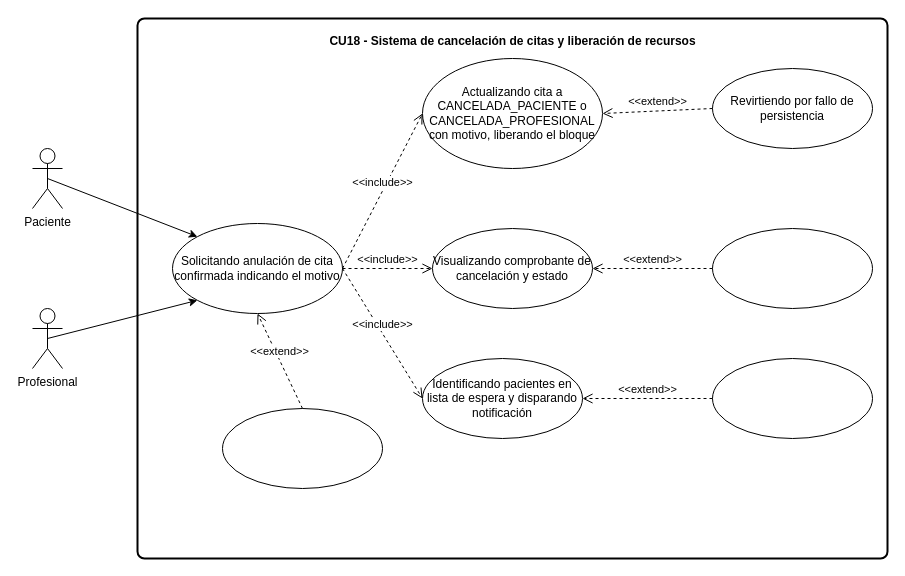
The diagram is 905 pixels wide and 576 high, and some of its shapes have lost their labels. The centre of each missing label's shape, as x and y in pixels:
"Registrando error de carga en log del cliente" goes at (792,268).
"Registrando fallo y manteniendo cancelación" goes at (792,398).
"Restringiendo anulación por plazo reglamentario" goes at (302,448).
